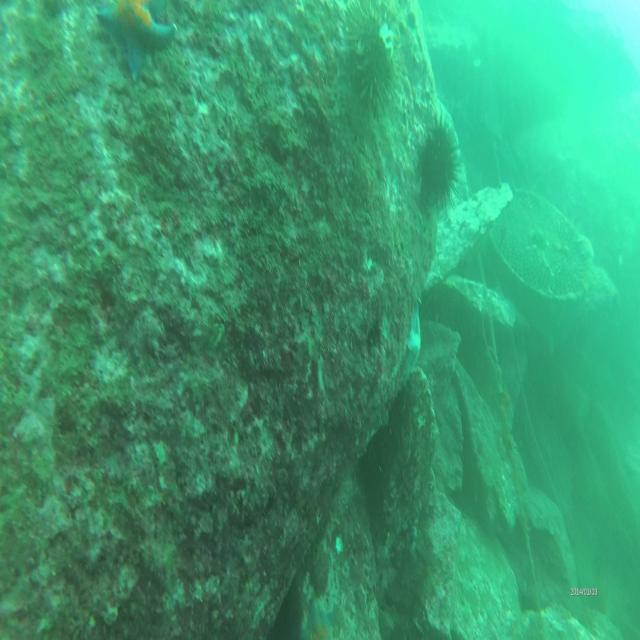echinus: (339, 0, 397, 112), (420, 111, 464, 216)
starfish: (96, 0, 181, 73)
